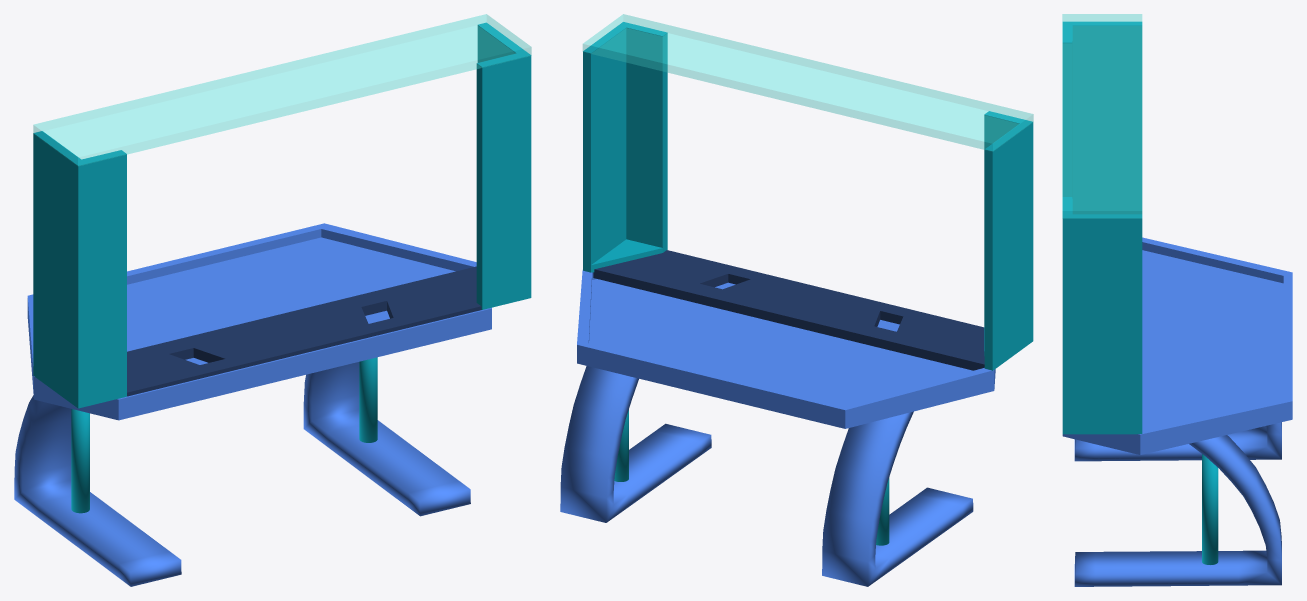
The model's file is table_tier16.fbx.
The picture shows the model from 3 angles, left to right: view 1: azimuth 30°, elevation 25°; view 2: azimuth 150°, elevation 25°; view 3: azimuth 270°, elevation 25°; orthographic projection. The views are drawn at different scales.
Parts seen in each view (by area): view 1: Cube.002, Cube, Cube.003, Cube.004, Cube.001, Plane.002, Plane.001, Cylinder, Cylinder.001; view 2: Cube.002, Cube, Cube.001, Cube.004, Plane.002, Plane.001, Cube.003, Cylinder.001; view 3: Cube.002, Cube.001, Cube, Cube.003, Plane.001, Plane.002, Cylinder.001.
Part boxes in pixels (bbox=[...]): Cube.002: bbox=[27, 223, 491, 420]; Cube: bbox=[33, 14, 531, 165]; Cube.003: bbox=[33, 131, 126, 408]; Cube.004: bbox=[127, 266, 481, 396]; Cube.001: bbox=[476, 22, 531, 309]; Plane.002: bbox=[14, 395, 181, 586]; Plane.001: bbox=[303, 362, 470, 516]; Cylinder: bbox=[71, 409, 89, 513]; Cylinder.001: bbox=[359, 357, 377, 442]; Cube.002: bbox=[577, 270, 995, 428]; Cube: bbox=[583, 14, 1033, 151]; Cube.001: bbox=[583, 22, 667, 272]; Cube.004: bbox=[593, 250, 984, 370]; Plane.002: bbox=[822, 411, 973, 586]; Plane.001: bbox=[560, 366, 711, 522]; Cube.003: bbox=[984, 111, 1033, 370]; Cylinder.001: bbox=[614, 410, 628, 481]; Cube.002: bbox=[1062, 237, 1292, 454]; Cube.001: bbox=[1062, 197, 1142, 434]; Cube: bbox=[1062, 14, 1141, 218]; Cube.003: bbox=[1062, 21, 1142, 214]; Plane.001: bbox=[1074, 435, 1281, 586]; Plane.002: bbox=[1074, 422, 1281, 461]; Cylinder.001: bbox=[1202, 454, 1218, 564].
Size of the model in its own units: 221 by 208 by 109.
